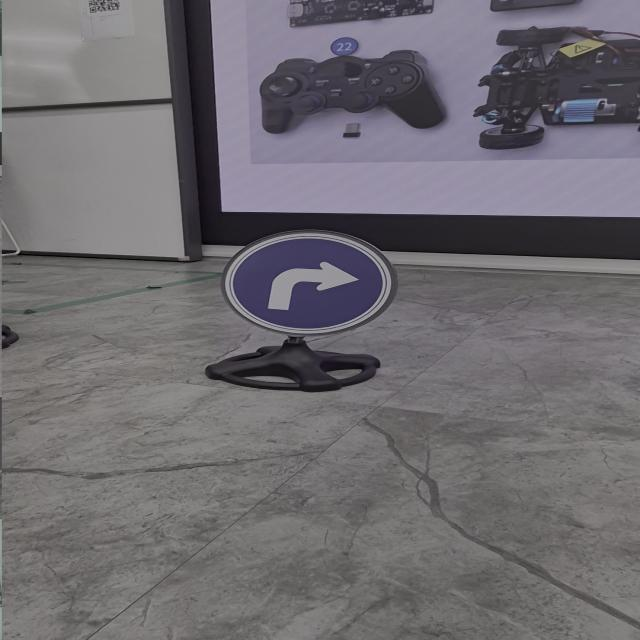right_dierection: (211, 224, 410, 338)
